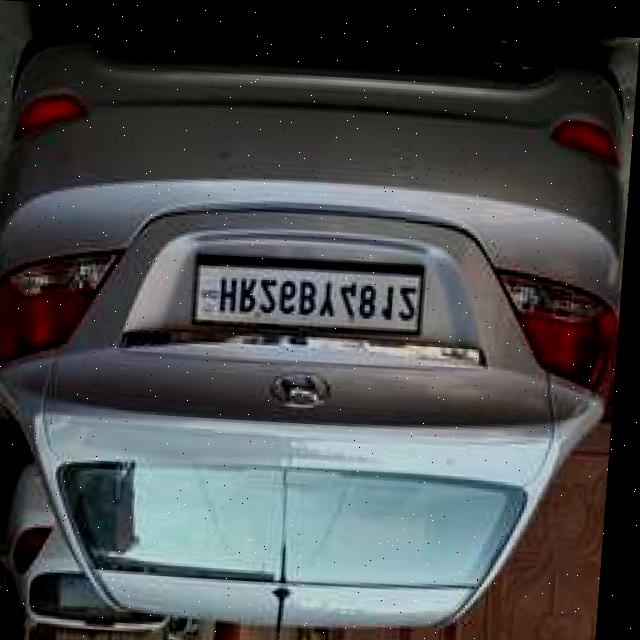plate: (195, 250, 433, 333)
